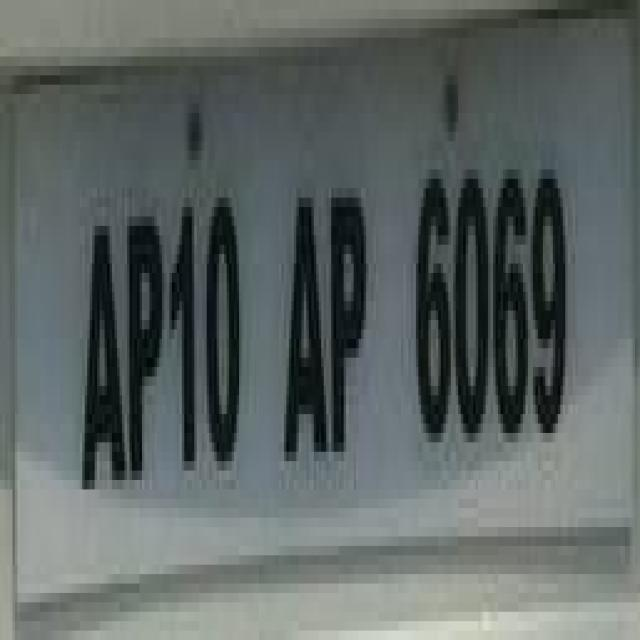license_plate: (8, 0, 600, 574)
